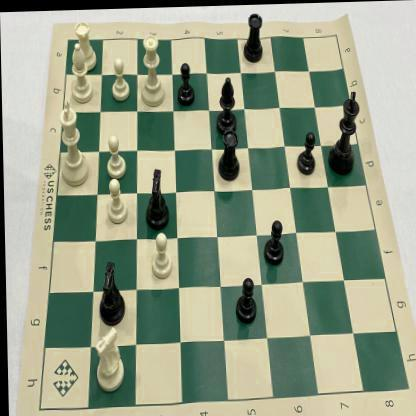black-bishop: (210, 69, 240, 139)
black-king: (325, 87, 365, 178)
black-knight: (140, 159, 174, 232), (92, 256, 127, 326)
black-pawn: (231, 273, 258, 325), (294, 126, 318, 178), (262, 216, 286, 268), (174, 56, 197, 107)
black-rook: (214, 127, 243, 184), (240, 7, 268, 66)
white-bishop: (67, 38, 96, 104)
white-king: (56, 95, 91, 188)
white-knight: (90, 320, 130, 394)
white-pawn: (148, 229, 176, 281), (102, 174, 130, 224), (107, 52, 132, 102), (102, 130, 127, 179)
white-queen: (136, 27, 167, 109)
white-rook: (71, 16, 101, 74)
